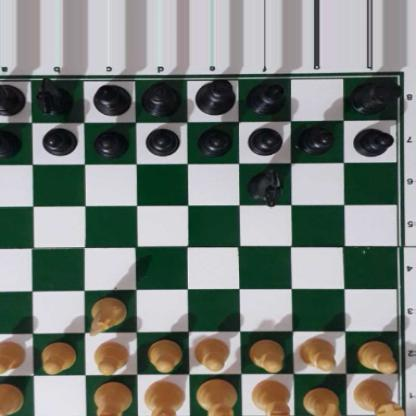black-bishop: (244, 79, 288, 114), (90, 82, 133, 114)
black-king: (193, 80, 238, 116)
black-knight: (36, 76, 72, 114), (247, 167, 282, 206)
black-pawn: (353, 125, 392, 157), (248, 124, 282, 156), (144, 124, 178, 156), (41, 125, 76, 156), (197, 125, 230, 156), (299, 124, 333, 154), (93, 127, 127, 157), (0, 128, 21, 156)
black-queen: (140, 80, 181, 115)
black-rook: (350, 74, 398, 113), (0, 79, 25, 115)
white-bishop: (250, 379, 291, 416), (93, 379, 130, 416)
white-king: (196, 379, 236, 416)
white-knight: (87, 294, 125, 333), (302, 385, 341, 416)
white-pawn: (298, 336, 338, 371), (192, 336, 230, 371), (357, 339, 396, 371), (39, 339, 76, 372), (249, 338, 286, 371), (92, 341, 128, 374), (146, 338, 180, 371), (0, 339, 25, 373)
white-queen: (142, 379, 185, 416)
white-rook: (354, 375, 405, 416), (0, 382, 24, 416)
